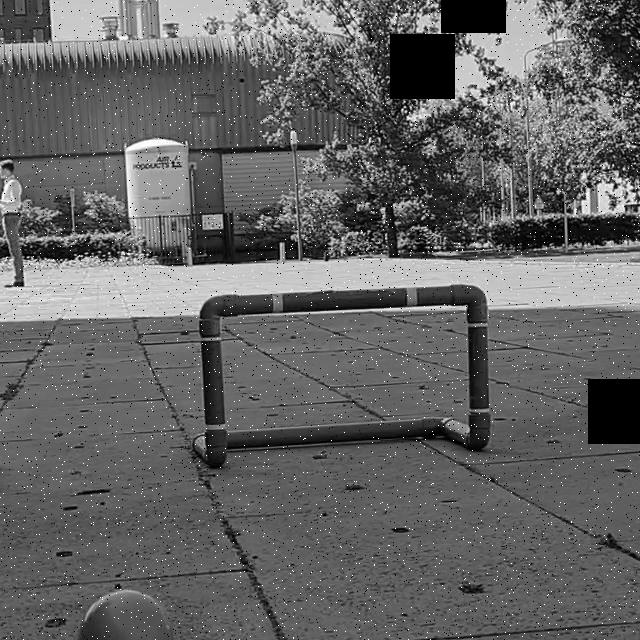ball: (80, 588, 173, 640)
